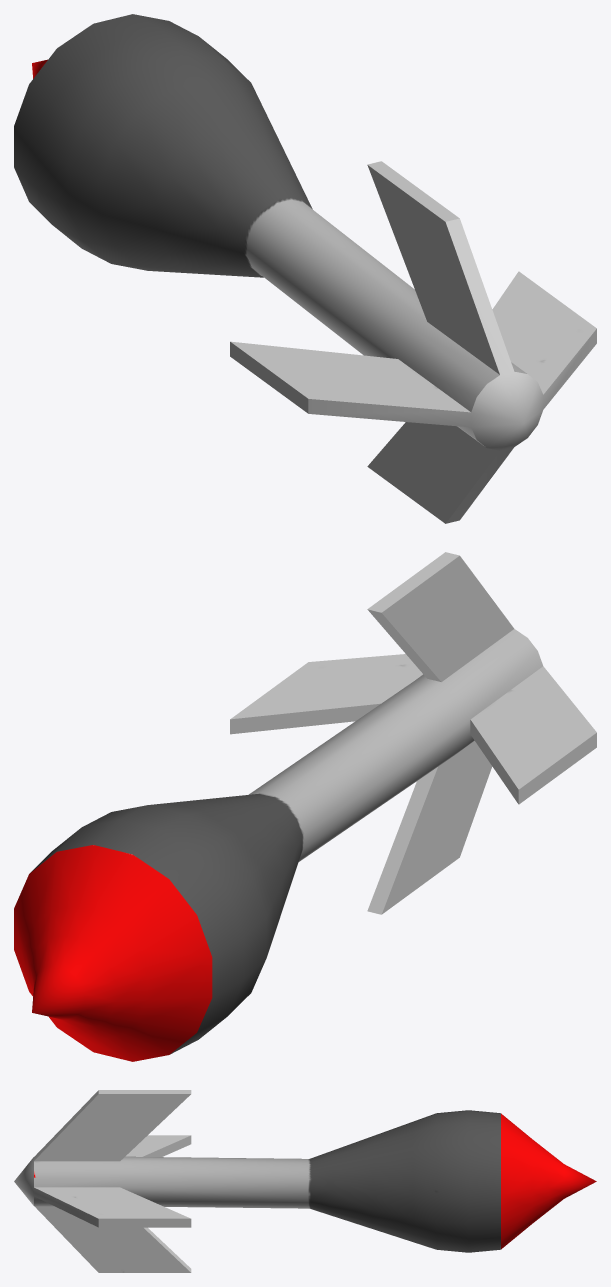
The model's file is Missile.dae.
The picture shows the model from 3 angles, top to bottom: view 1: azimuth 30°, elevation 25°; view 2: azimuth 150°, elevation 25°; view 3: azimuth 270°, elevation 25°; orthographic projection. The views are drawn at different scales.
Visible parts, largest first — view 1: Cylinder; view 2: Cylinder; view 3: Cylinder.
Boxes of the visible parts, x1,y1,x2,y2 form: Cylinder: [14, 14, 596, 523]; Cylinder: [14, 552, 596, 1061]; Cylinder: [14, 1090, 596, 1272].
Bounding box in the file's own units: 1.17 × 3.44 × 1.17.
Materials: 1 (1 with a texture image).
